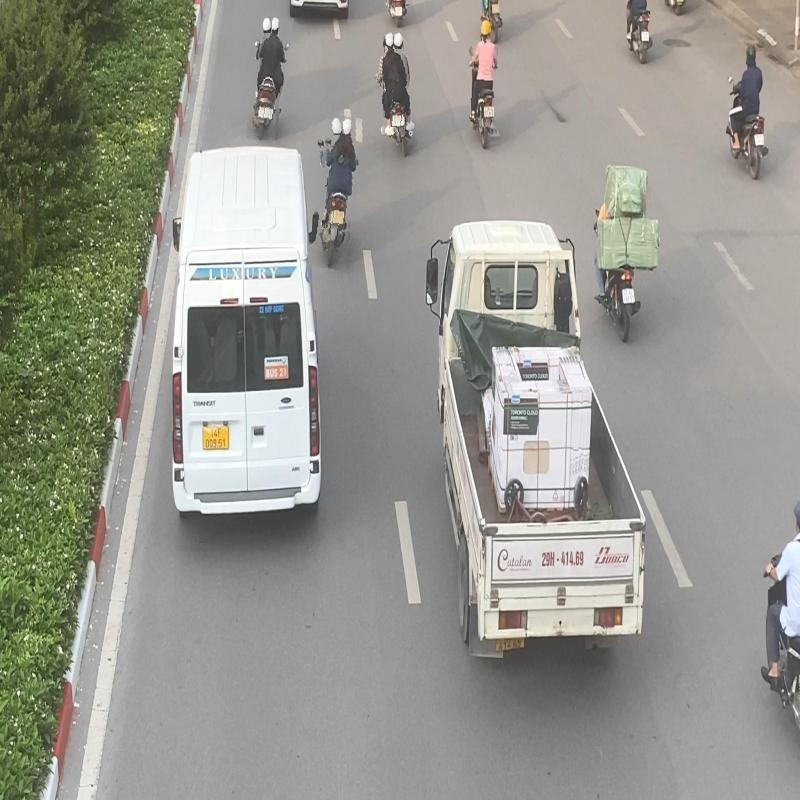helmet: (479, 19, 491, 41), (330, 118, 344, 135), (393, 32, 404, 49), (262, 17, 272, 33)
licenseplate: (332, 211, 346, 225), (392, 114, 403, 128), (264, 108, 274, 120), (486, 106, 494, 118)
motorcyclist: (312, 115, 361, 270), (374, 31, 416, 161), (250, 16, 290, 142), (466, 17, 500, 150)
